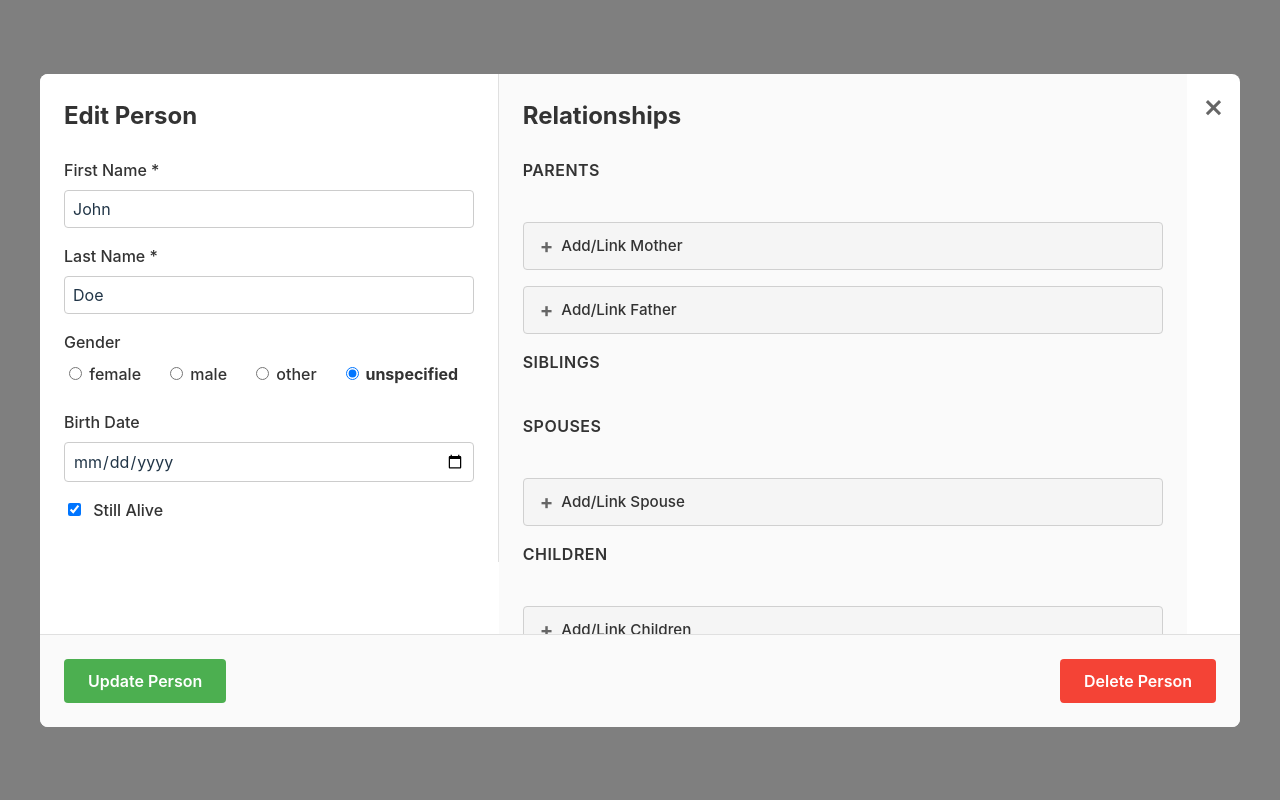
Test: PersonModal - Spouses Section with CollapsibleActionPanel (Issue #54) › AC5: Link Existing shows LinkExistingSpouse › should show LinkExistingSpouse when Link Existing Person is clicked
Click the button with class "trigger-button" showing "+ Add/Link Spouse": (623, 502) x1=523 y1=478 x2=1163 y2=526
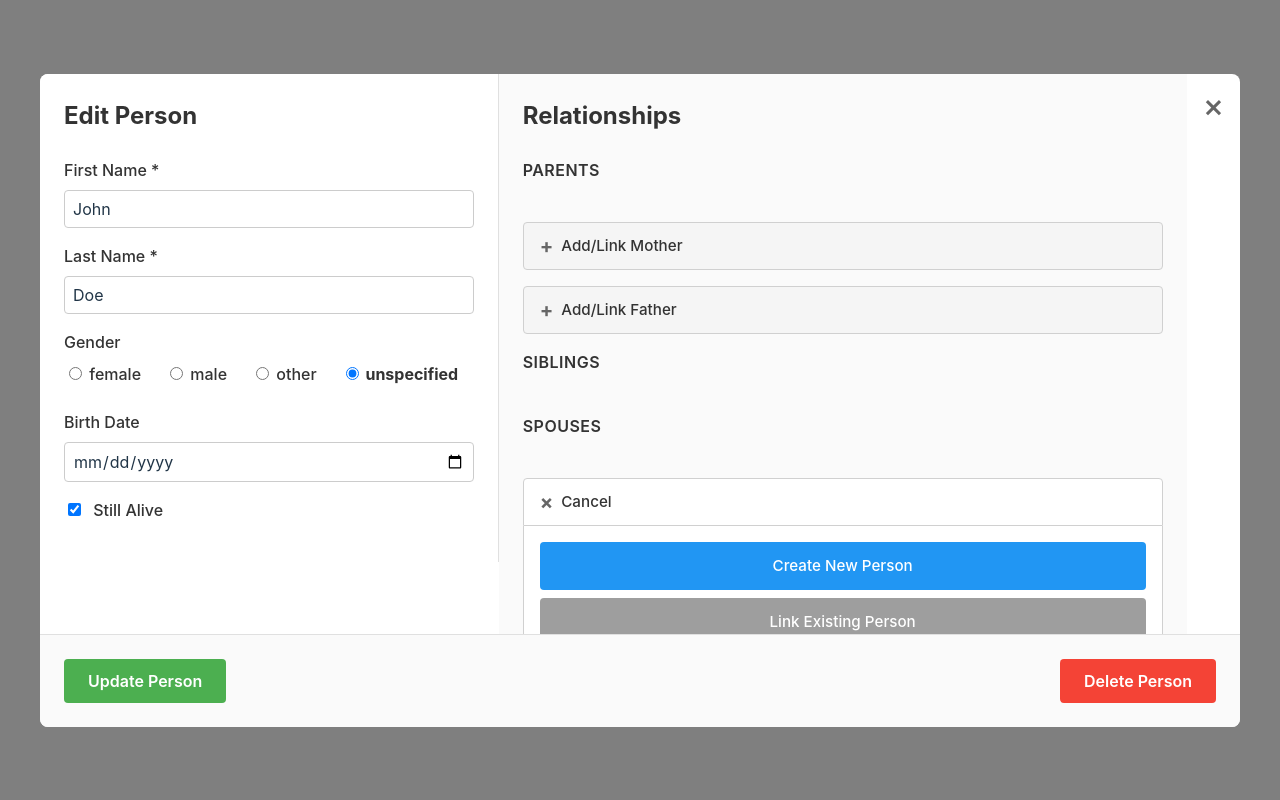
# WHEN user clicks Link Existing Person
Click the button "Link Existing Person": (843, 622) x1=540 y1=598 x2=1146 y2=646
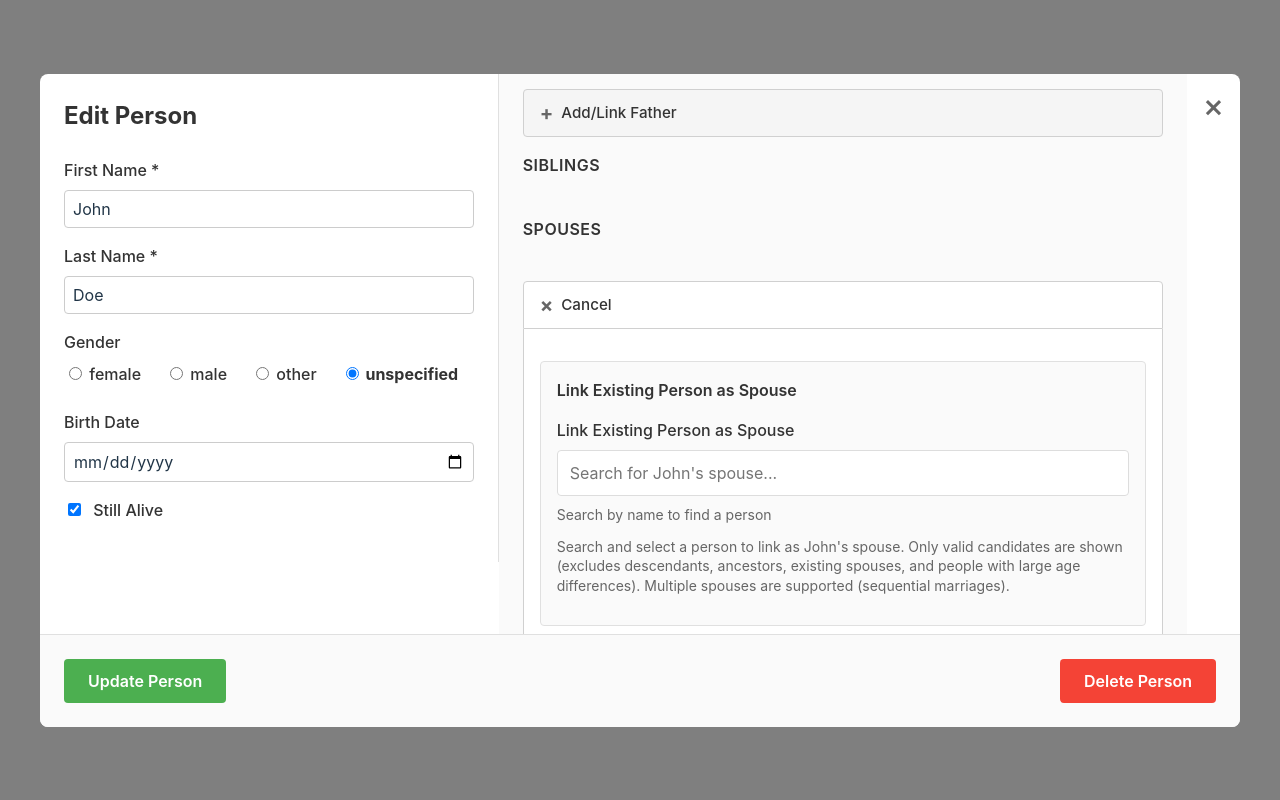
expect the element with class "link-existing-spouse" is shown: met, box x1=540 y1=360 x2=1146 y2=626
expect the element with class "link-existing-spouse" shows "Link Existing Person as Spouse": met, box x1=557 y1=380 x2=797 y2=400
